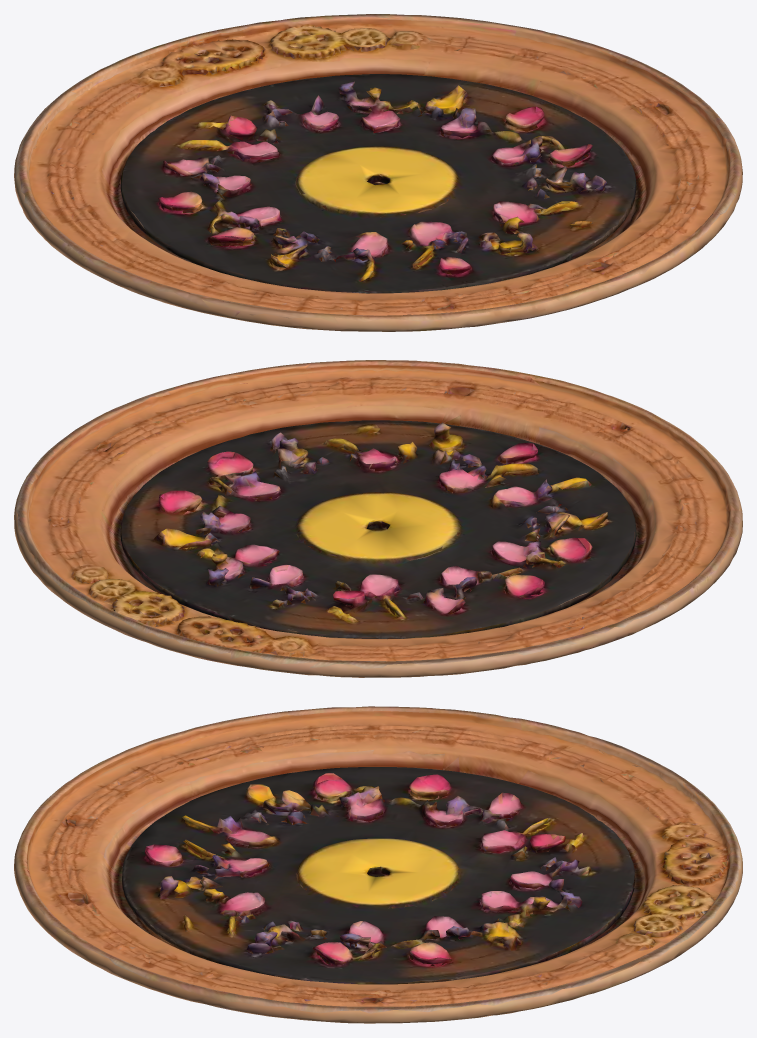
File: pop_3d.glb
3 renders of one model, top to bottom at view 1: azimuth 30°, elevation 25°; view 2: azimuth 150°, elevation 25°; view 3: azimuth 270°, elevation 25°, orthographic.
Visible parts, largest first — view 1: mesh_0; view 2: mesh_0; view 3: mesh_0.
Boxes of the visible parts, x1,y1,x2,y2 form: mesh_0: (14,14,742,331); mesh_0: (14,360,742,677); mesh_0: (14,706,742,1023).
Size of the model in its own units: 1.91 by 0.1279 by 1.91.
Materials: 1 (1 with a texture image).
